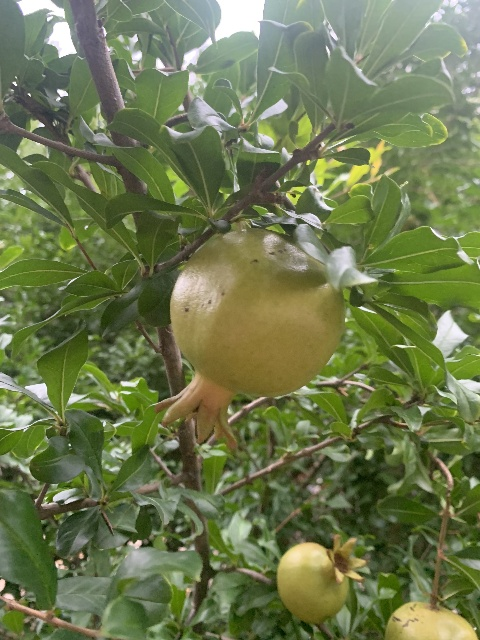mid-growth: (154, 226, 346, 450), (276, 535, 368, 623)
